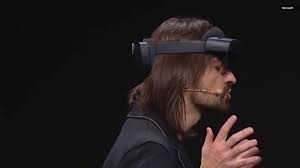hololens: (132, 26, 239, 74)
